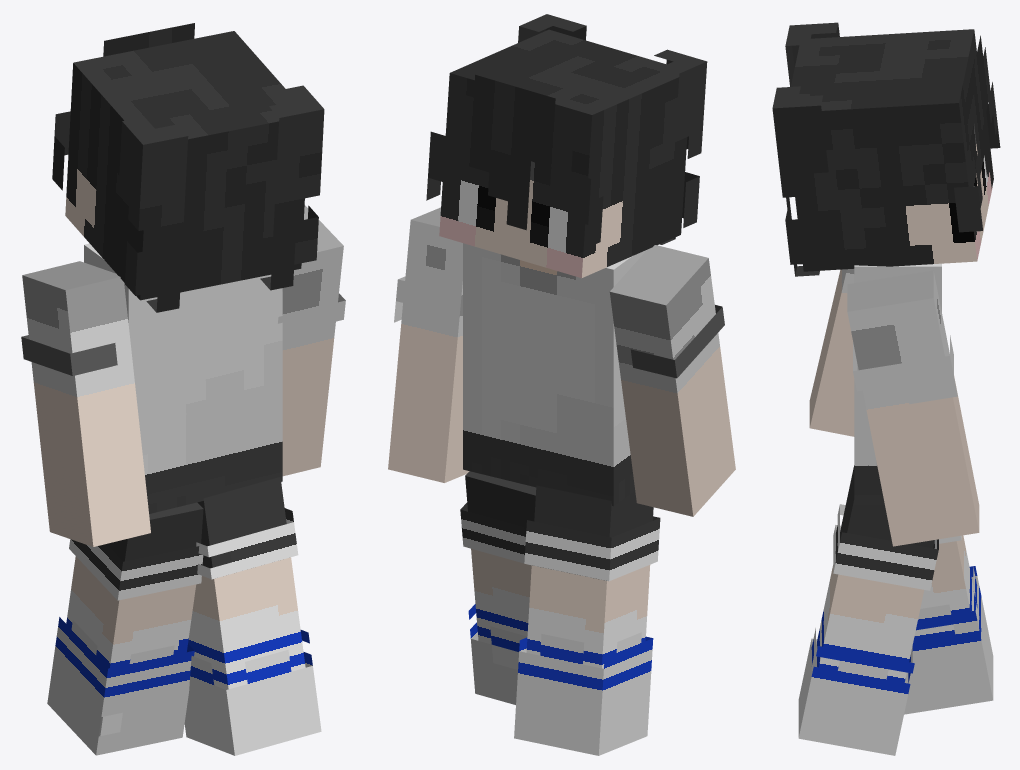
Rendered from player_model.gltf.
The picture shows the model from 3 angles, left to right: view 1: azimuth 30°, elevation 25°; view 2: azimuth 150°, elevation 25°; view 3: azimuth 270°, elevation 25°; orthographic projection. The views are drawn at different scales.
Visible parts, largest first — view 1: Head, Body, Left Arm, Hat Layer, Left Leg Layer, Right Leg, Right Leg Layer, Left Leg, Right Arm, Left Arm Layer, Right Arm Layer; view 2: Head, Body, Left Arm, Left Leg Layer, Hat Layer, Right Arm, Left Leg, Right Leg, Right Leg Layer, Left Arm Layer, Right Arm Layer; view 3: Head, Right Arm, Right Leg Layer, Hat Layer, Right Leg, Left Leg Layer, Left Arm, Body, Right Arm Layer, Left Leg.
Part boxes in pixels (bbox=[...]): Head: bbox=[65, 31, 304, 300]; Body: bbox=[84, 243, 282, 513]; Left Arm: bbox=[22, 261, 150, 546]; Hat Layer: bbox=[52, 23, 324, 312]; Left Leg Layer: bbox=[47, 539, 203, 755]; Right Leg: bbox=[188, 477, 305, 689]; Right Leg Layer: bbox=[184, 508, 321, 755]; Left Leg: bbox=[66, 502, 203, 736]; Right Arm: bbox=[282, 205, 343, 476]; Left Arm Layer: bbox=[21, 335, 117, 375]; Right Arm Layer: bbox=[278, 293, 345, 334]; Head: bbox=[439, 29, 687, 278]; Body: bbox=[463, 243, 646, 506]; Left Arm: bbox=[609, 245, 735, 516]; Left Leg Layer: bbox=[514, 516, 660, 755]; Hat Layer: bbox=[426, 14, 707, 247]; Right Arm: bbox=[388, 207, 469, 482]; Left Leg: bbox=[526, 485, 653, 668]; Right Leg: bbox=[465, 471, 536, 669]; Right Leg Layer: bbox=[460, 502, 531, 704]; Left Arm Layer: bbox=[630, 305, 724, 378]; Right Arm Layer: bbox=[394, 276, 441, 322]; Head: bbox=[791, 29, 992, 271]; Right Arm: bbox=[847, 270, 979, 546]; Right Leg Layer: bbox=[798, 504, 938, 755]; Hat Layer: bbox=[772, 22, 1000, 276]; Right Leg: bbox=[811, 465, 934, 682]; Left Leg Layer: bbox=[904, 535, 993, 714]; Left Arm: bbox=[809, 269, 854, 436]; Body: bbox=[854, 263, 941, 504]; Right Arm Layer: bbox=[853, 335, 957, 404]; Left Leg: bbox=[913, 535, 977, 640].
Bounding box in the file's own units: 9.06 × 20.91 × 6.65.
1 material, 1 textured.
